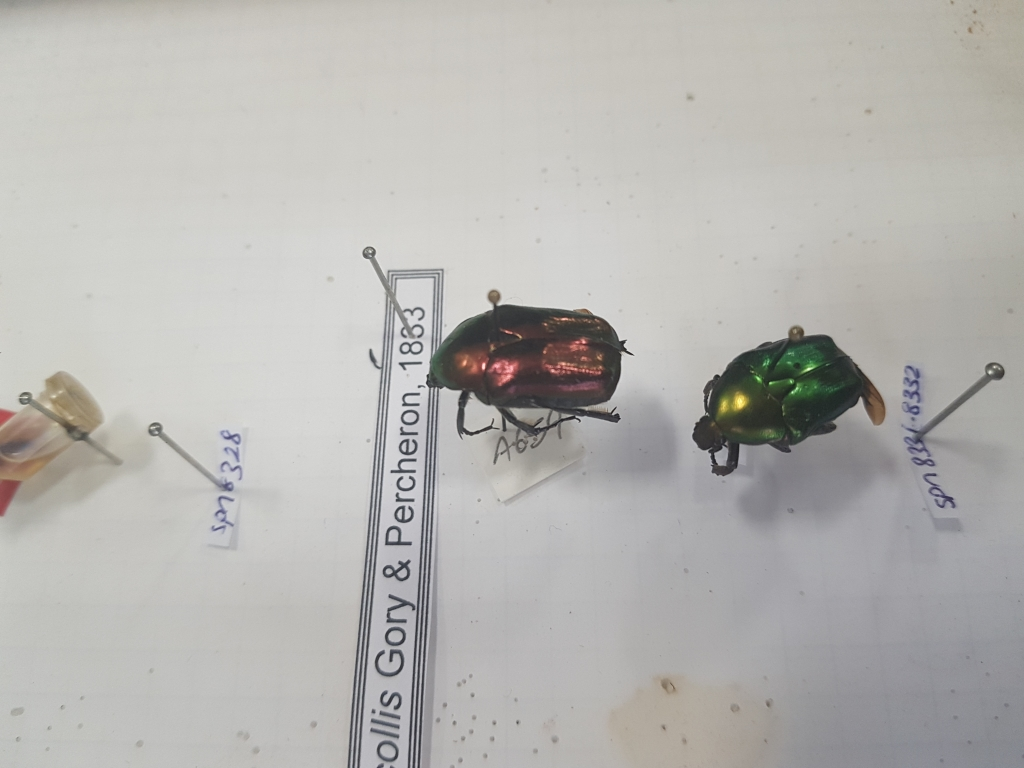Protaetia_cuprea_ignicollis: (422, 299, 631, 432), (692, 331, 869, 477)
